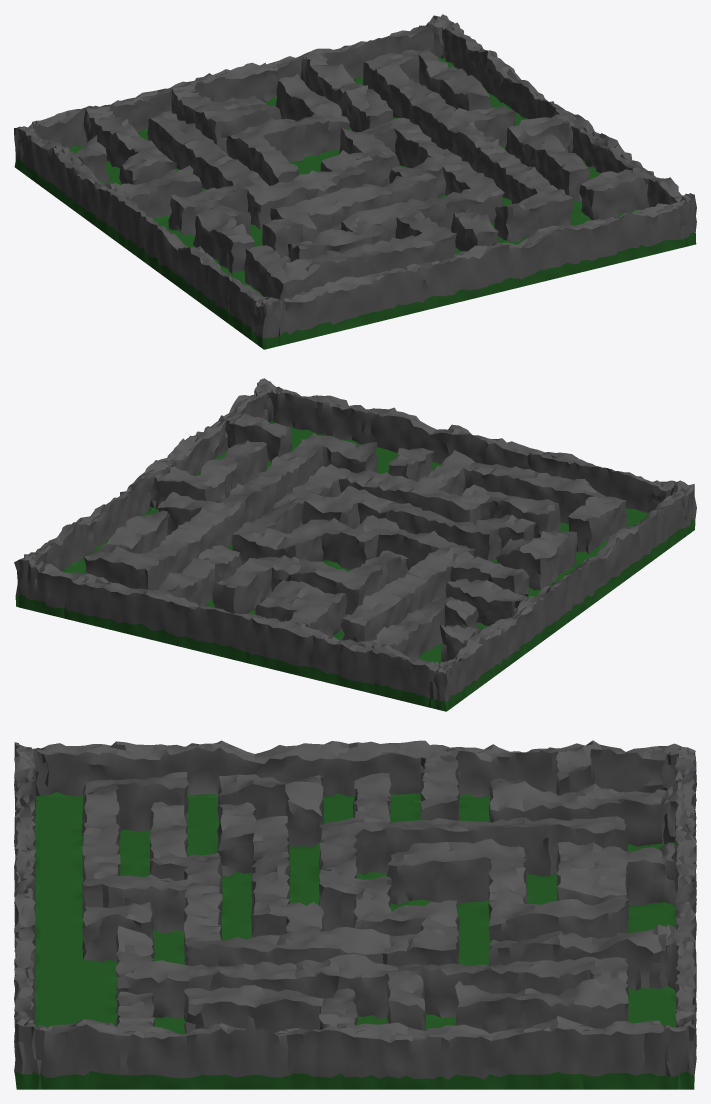
The model's file is maze.fbx.
The picture shows the model from 3 angles, top to bottom: view 1: azimuth 30°, elevation 25°; view 2: azimuth 150°, elevation 25°; view 3: azimuth 270°, elevation 25°; orthographic projection. The views are drawn at different scales.
Parts seen in each view (by area): view 1: pPlane3; view 2: pPlane3; view 3: pPlane3.
Boxes of the visible parts, <box> form: pPlane3: <box>14,14,696,349</box>; pPlane3: <box>14,378,696,711</box>; pPlane3: <box>14,740,696,1089</box>.
Bounding box in the file's own units: 101 × 11.16 × 101.
